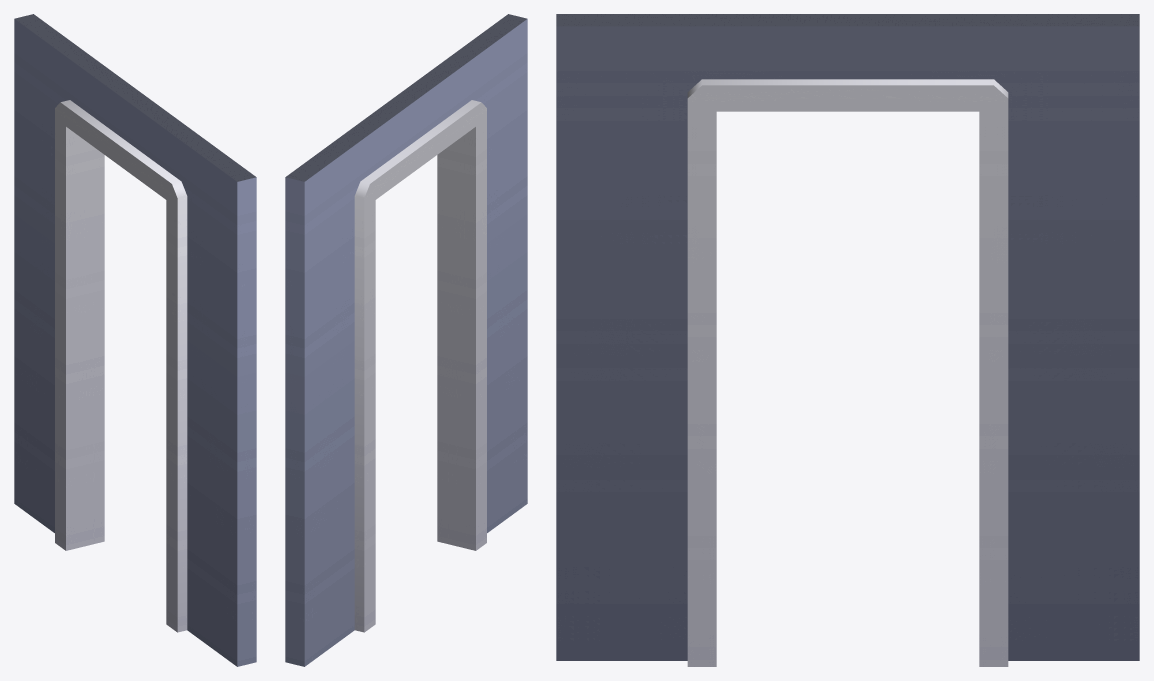
The model's file is bk_wall_door.glb.
The picture shows the model from 3 angles, left to right: view 1: azimuth 30°, elevation 25°; view 2: azimuth 150°, elevation 25°; view 3: azimuth 270°, elevation 25°; orthographic projection. The views are drawn at different scales.
Visible parts, largest first — view 1: wall-doorway-square; view 2: wall-doorway-square; view 3: wall-doorway-square.
Boxes of the visible parts, bbox=[...] form: wall-doorway-square: bbox=[14, 14, 256, 666]; wall-doorway-square: bbox=[285, 14, 527, 666]; wall-doorway-square: bbox=[556, 14, 1139, 666].
Bounding box in the file's own units: 0.2 × 2.4 × 2.
Materials: 1 (1 with a texture image).
